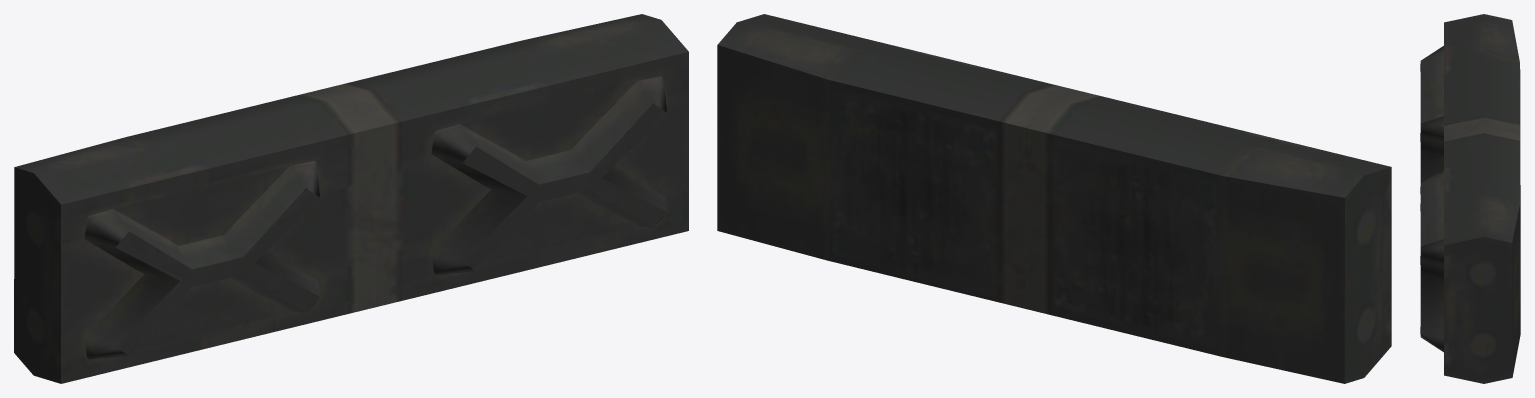
3 views of the same model, side by side, from view 1: azimuth 30°, elevation 25°; view 2: azimuth 150°, elevation 25°; view 3: azimuth 270°, elevation 25° (orthographic). The views are drawn at different scales.
Parts seen in each view (by area): view 1: set_0_group_0; view 2: set_0_group_0; view 3: set_0_group_0.
Part boxes in pixels (<box>): set_0_group_0: <box>14,14,688,383</box>; set_0_group_0: <box>717,14,1391,383</box>; set_0_group_0: <box>1420,14,1520,383</box>.
Bounding box in the file's own units: 0.4677 × 0.1442 × 0.0888.
1 material, 1 textured.
